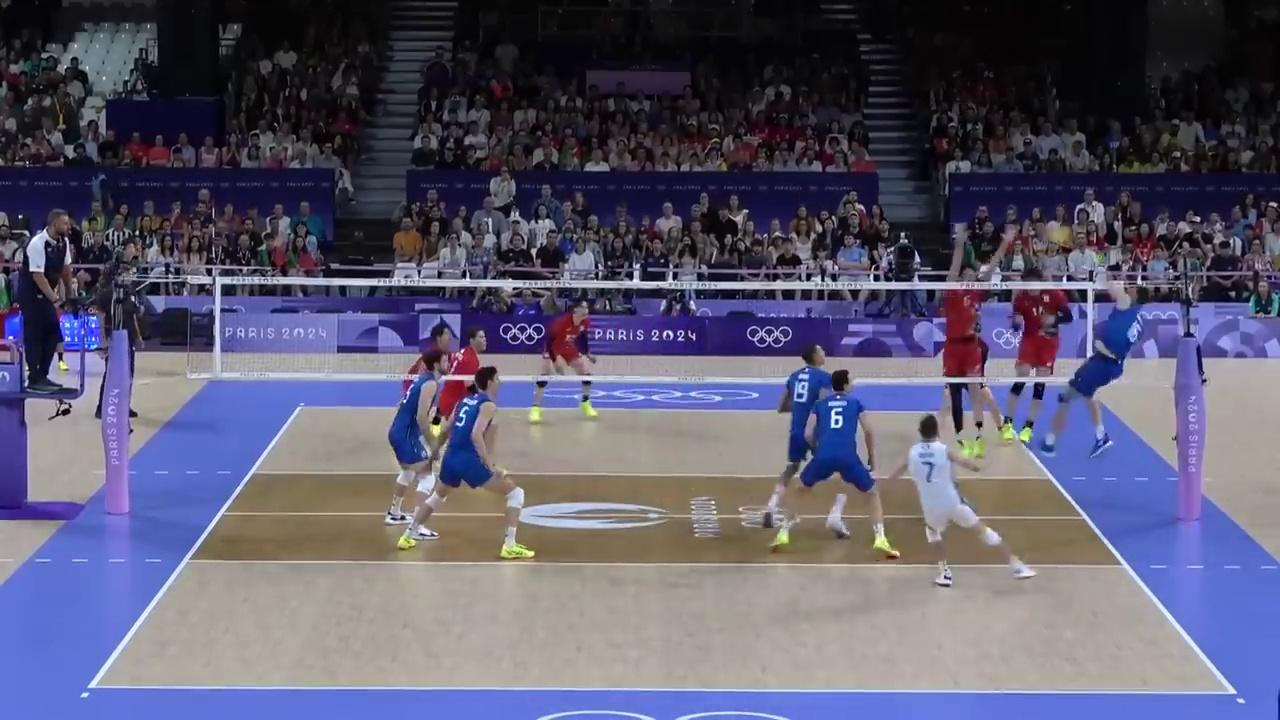ball: (1048, 226, 1070, 244)
